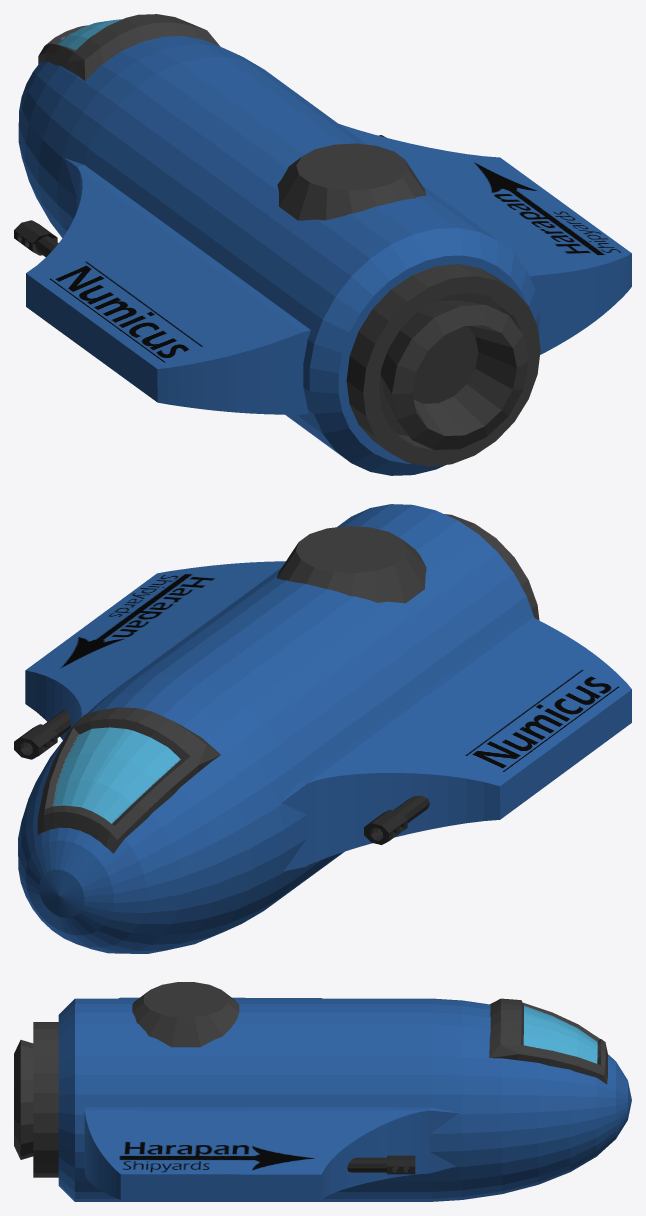
Rendered from Numicus.obj.
The picture shows the model from 3 angles, top to bottom: view 1: azimuth 30°, elevation 25°; view 2: azimuth 150°, elevation 25°; view 3: azimuth 270°, elevation 25°; orthographic projection. The views are drawn at different scales.
Parts seen in each view (by area): view 1: Ship, Cannon.001; view 2: Ship, Cannon.001, Cannon; view 3: Ship, Cannon.
Boxes of the visible parts, x1=… form: Ship: x1=18, y1=14, x2=631, y2=475; Cannon.001: x1=14, y1=220, x2=58, y2=257; Ship: x1=18, y1=504, x2=631, y2=953; Cannon.001: x1=364, y1=795, x2=429, y2=844; Cannon: x1=14, y1=709, x2=70, y2=759; Ship: x1=14, y1=982, x2=631, y2=1201; Cannon: x1=347, y1=1155, x2=415, y2=1174.
Size of the model in its own units: 6.95 by 3.53 by 10.27.
Materials: 1 (1 with a texture image).
